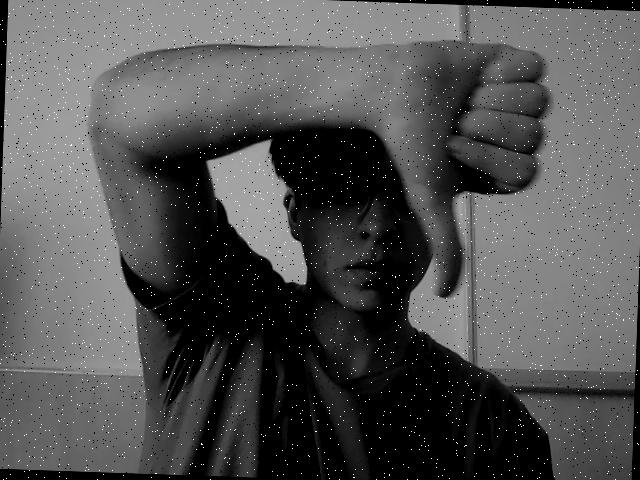bad: (361, 21, 564, 296)
